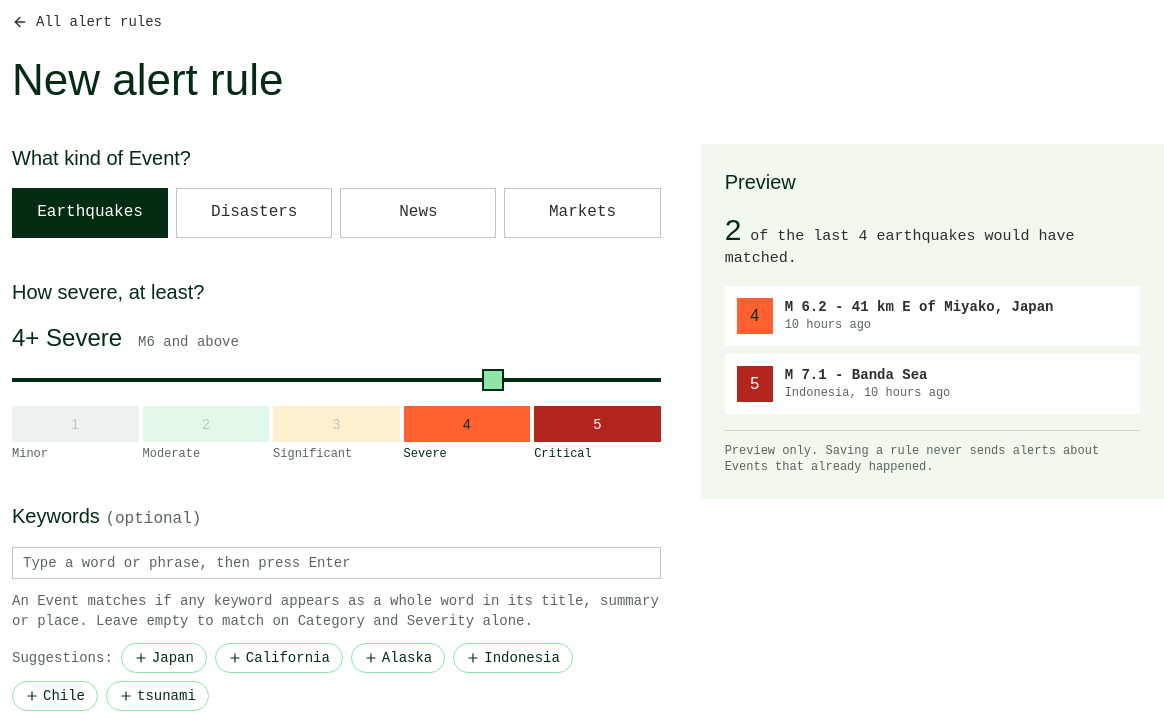
Test: Rule editor keyword paste › keeps every keyword of a comma-separated paste and leaves refused ones in the box
Click the field labelled "Keywords (optional)": coordinates (336, 563) [12,547,661,579]
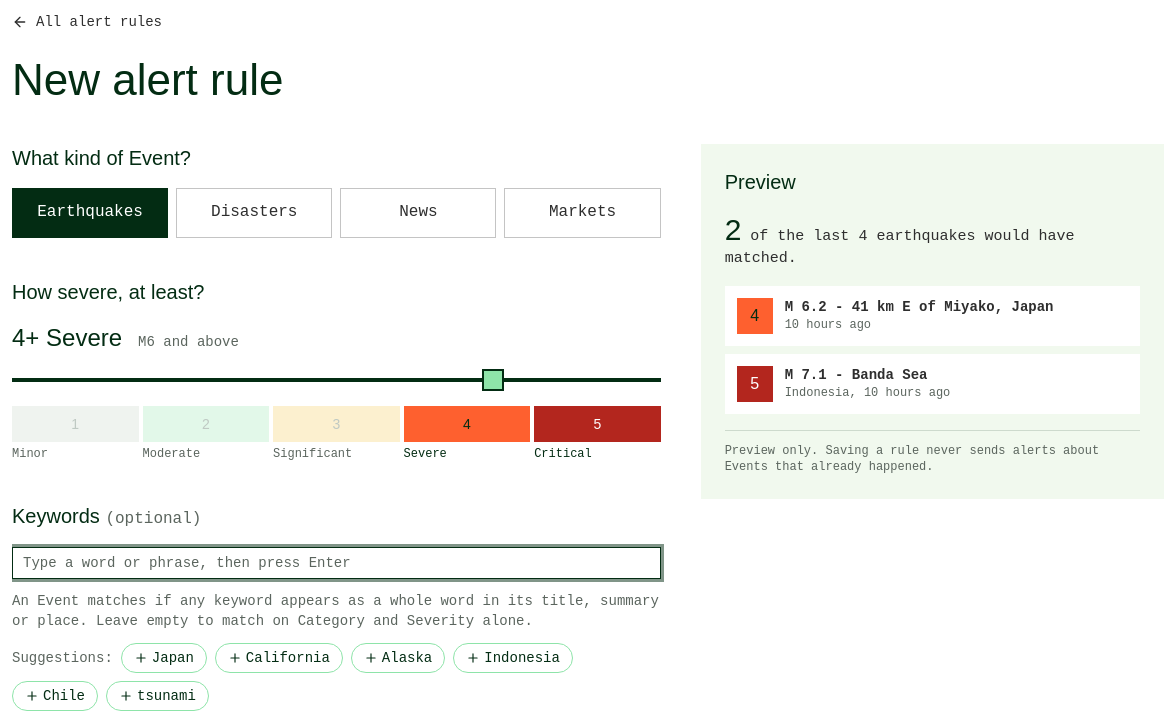
Type keys "oil, gas, OIL, gold"
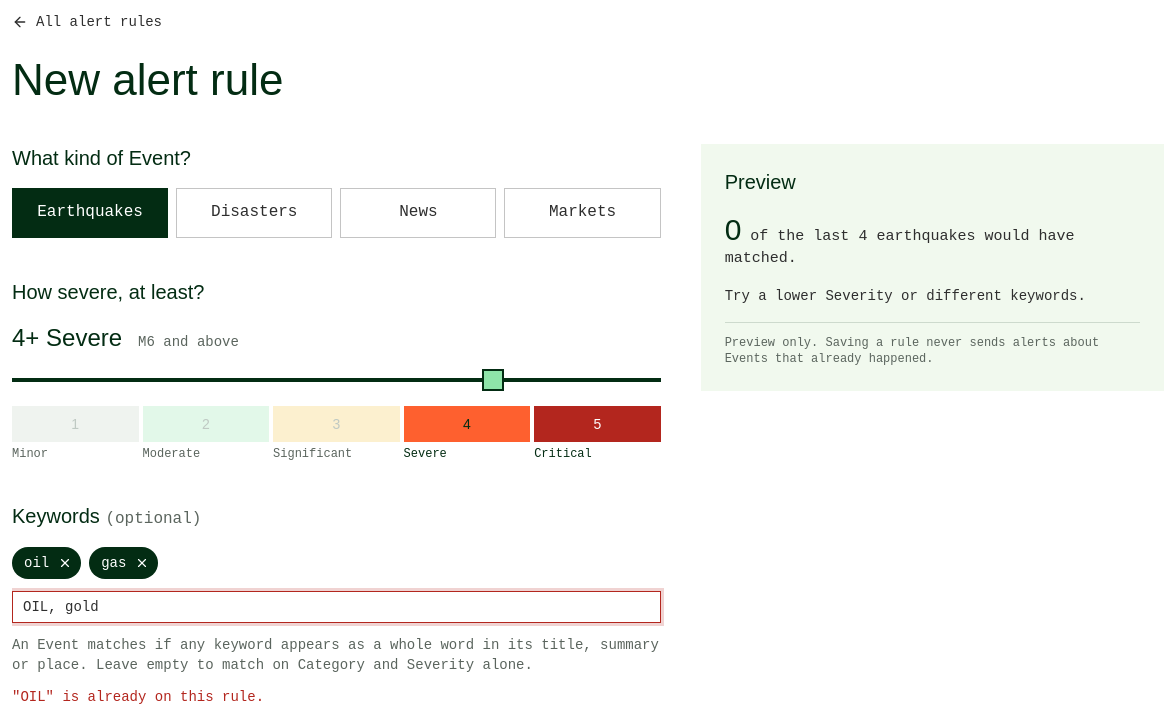
Expected: the list item "oil" is shown, [12,547,81,579]
Expected: the list item "gas" is shown, [89,547,158,579]
Expected: the field labelled "Keywords (optional)" holds "OIL, gold", [12,591,661,623]
